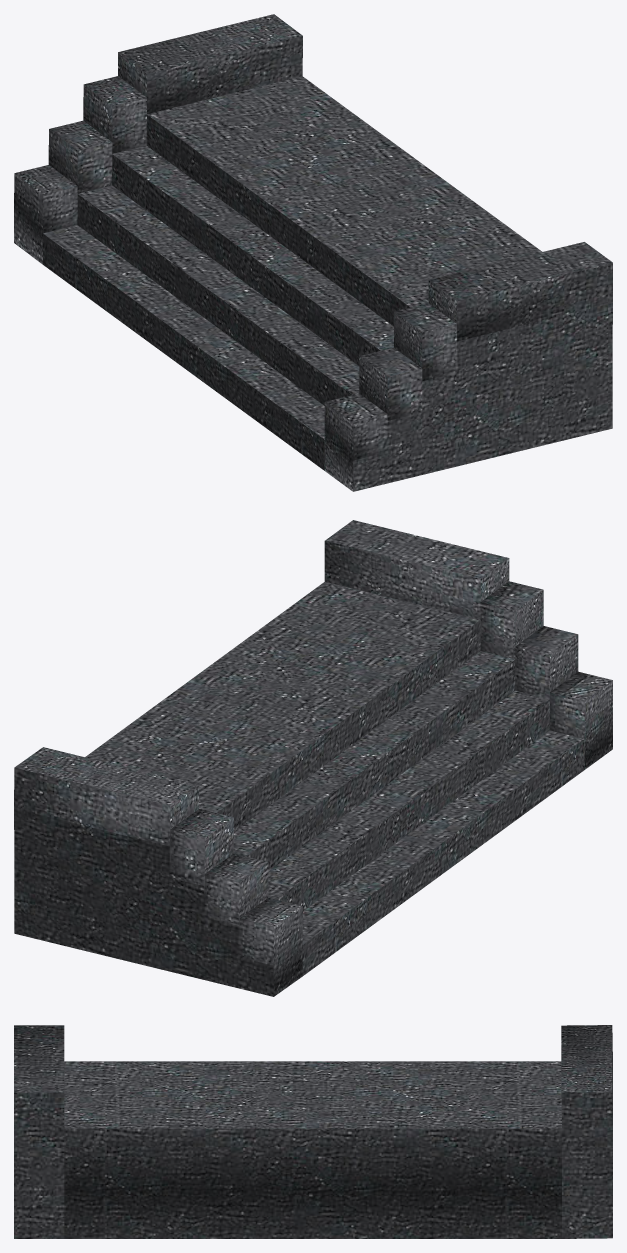
The model's file is gradasalidamonoblock.fbx.
3 views of the same model, one above another, from view 1: azimuth 30°, elevation 25°; view 2: azimuth 150°, elevation 25°; view 3: azimuth 270°, elevation 25° (orthographic). The views are drawn at different scales.
Parts seen in each view (by area): view 1: stair_big_02; view 2: stair_big_02; view 3: stair_big_02.
Part boxes in pixels (left/top/right/bottom): stair_big_02: left=14, top=14, right=612, bottom=491; stair_big_02: left=14, top=520, right=612, bottom=996; stair_big_02: left=14, top=1025, right=612, bottom=1238.
Size of the model in its own units: 98.7 by 60.4 by 223.
